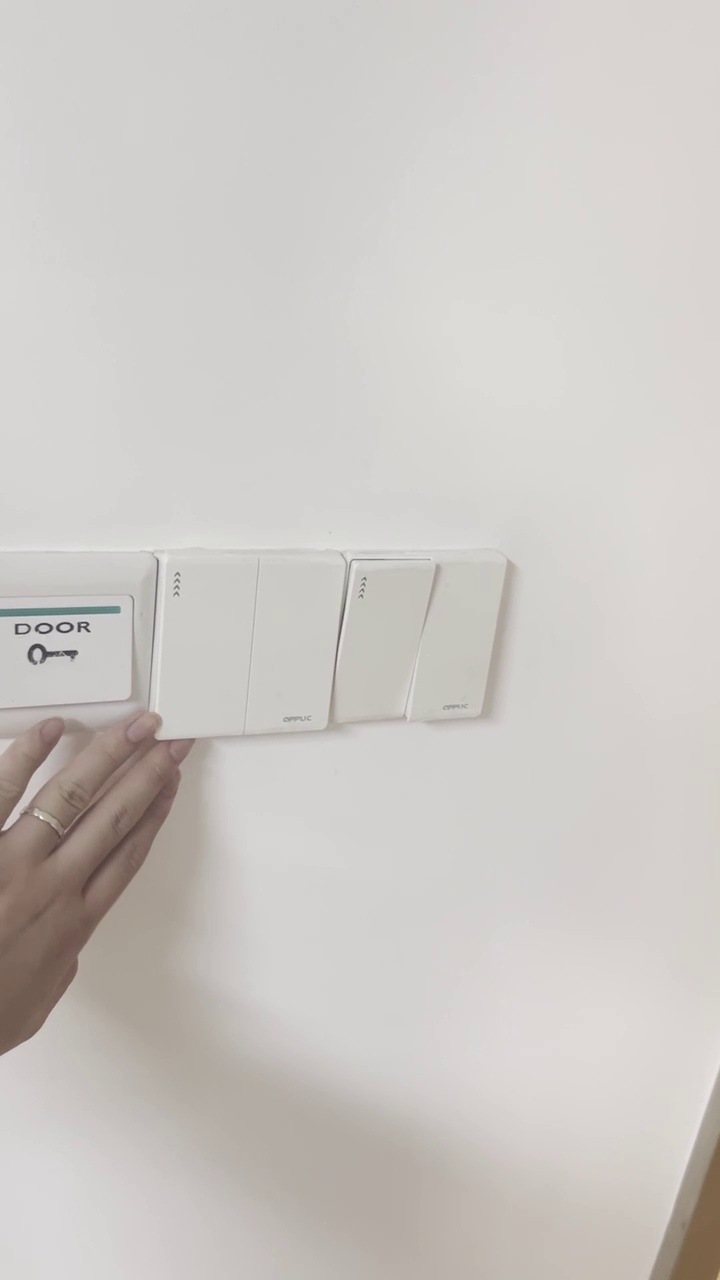button: (152, 545, 343, 735), (335, 546, 512, 732)
